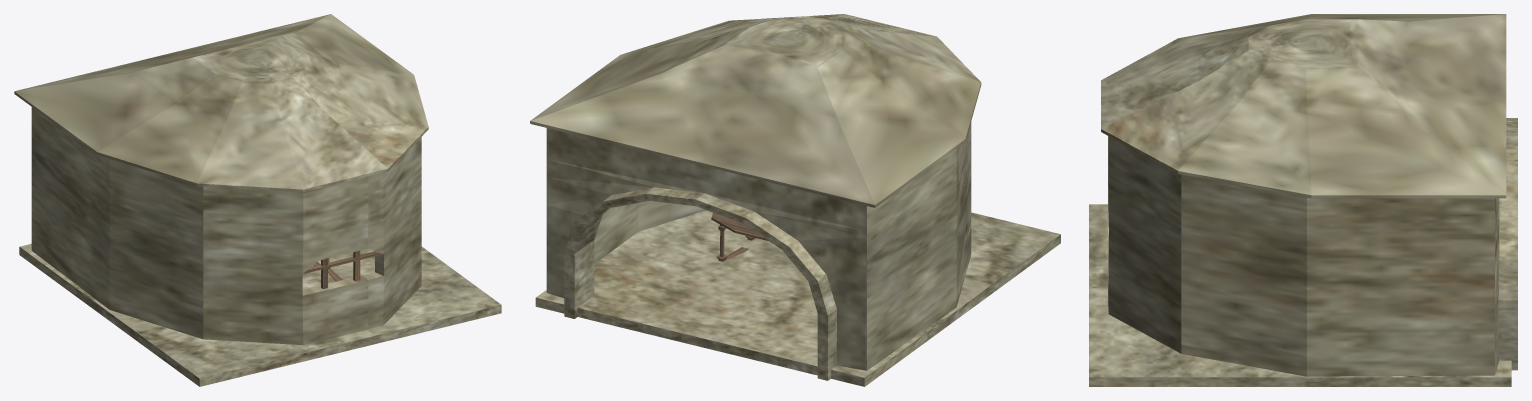
Rendered from shrine.obj.
The picture shows the model from 3 angles, left to right: view 1: azimuth 30°, elevation 25°; view 2: azimuth 150°, elevation 25°; view 3: azimuth 270°, elevation 25°; orthographic projection. The views are drawn at different scales.
Visible parts, largest first — view 1: shrine; view 2: shrine; view 3: shrine.
Part boxes in pixels (box(x1,y1,x2,y2)): shrine: box(14, 14, 501, 386); shrine: box(530, 14, 1060, 386); shrine: box(1089, 14, 1517, 386).
Bounding box in the file's own units: 3 × 2 × 3.
1 material, 1 textured.
